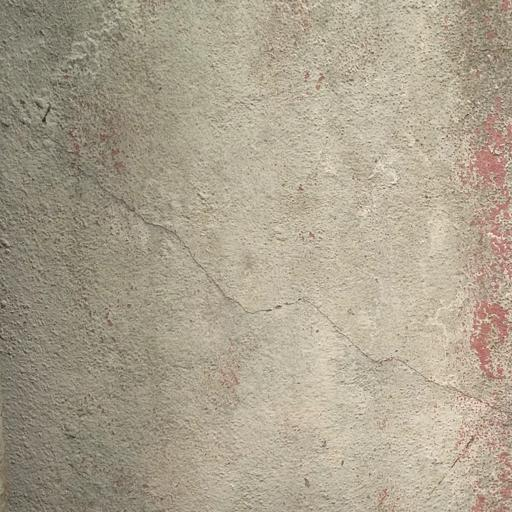minor_crack: (66, 145, 512, 440)
